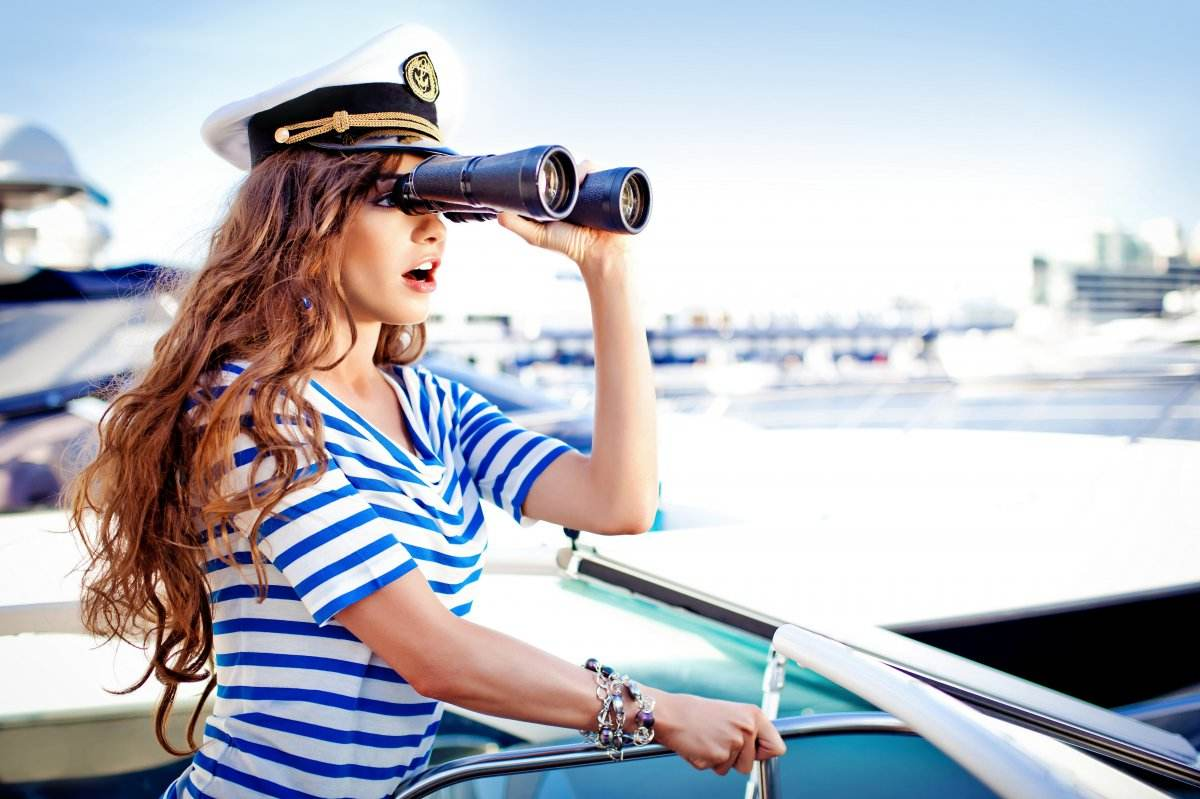person: (82, 22, 705, 760)
